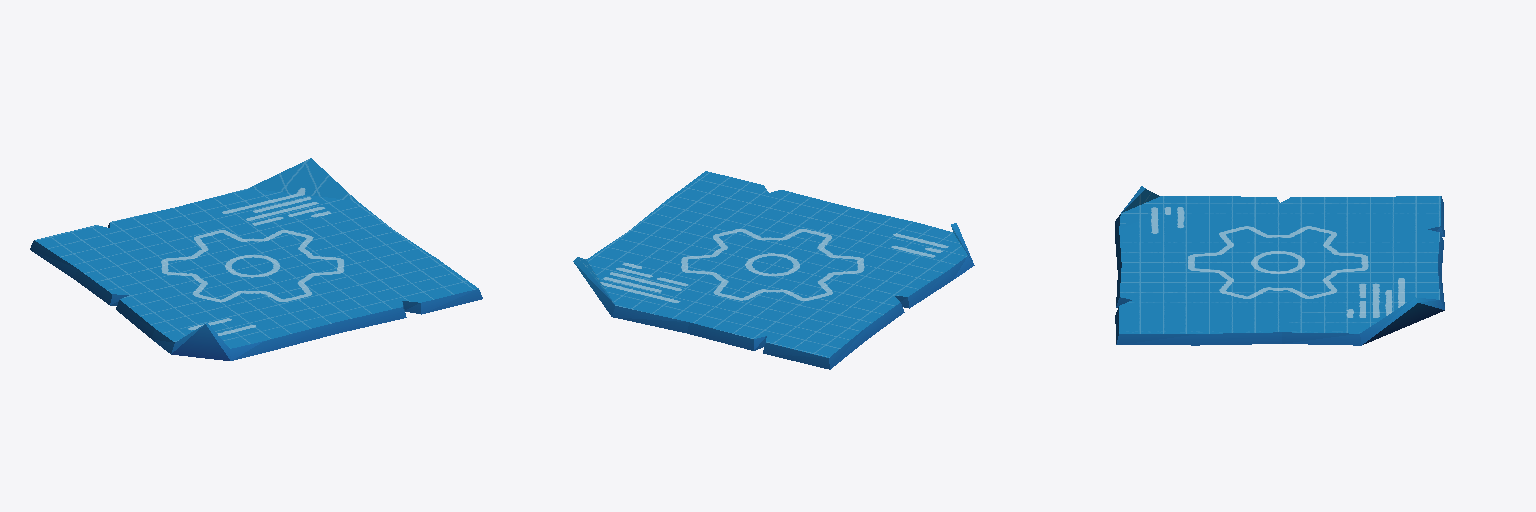
3 views of the same model, side by side, from view 1: azimuth 30°, elevation 25°; view 2: azimuth 150°, elevation 25°; view 3: azimuth 270°, elevation 25° (orthographic).
Parts seen in each view (by area): view 1: blueprint; view 2: blueprint; view 3: blueprint.
Part boxes in pixels (left/top/right/bottom): blueprint: left=30, top=158, right=482, bottom=360; blueprint: left=573, top=171, right=974, bottom=369; blueprint: left=1115, top=186, right=1444, bottom=345.
Size of the model in its own units: 1.49 by 0.1803 by 1.46.
Materials: 2 (2 with a texture image).